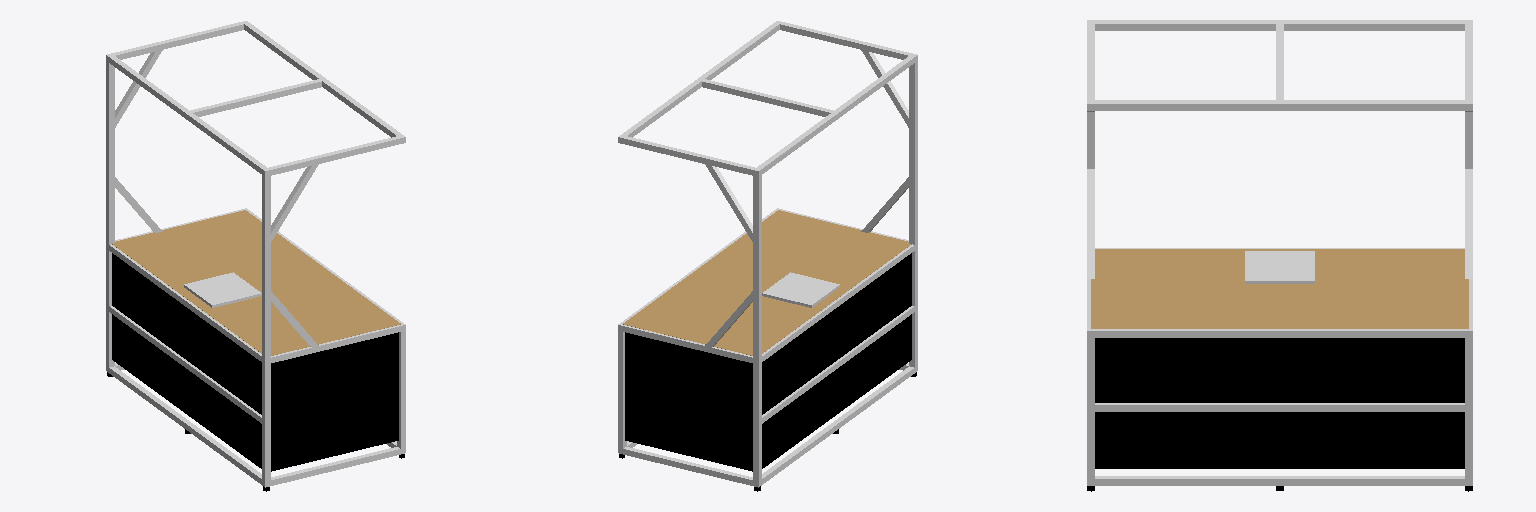
robot.urdf — lab_surrounding:
<?xml version="1.0" ?>
<robot name="lab_surrounding">

  <material name="brown">
    <color rgba="0.8 0.655 0.45 1"/>
  </material>

  <material name="silver">
    <color rgba="0.9 0.9 0.9 1"/>
  </material>

  <material name="black">
    <color rgba="0 0 0 1"/>
  </material>

<!--
  <link name="world"/>
  <joint name="world_joint" type="fixed">
    <origin rpy="0 0 0" xyz="0 0 0"/>
    <parent link="world"/>
    <child link="table_plane"/>
  </joint>
-->

  <link name="table_plane">
    <visual>
      <geometry><box size="0.98 1.96 0.002"/></geometry>
      <material name="brown"/>
    </visual>
    <collision>
      <geometry><box size="0.98 1.96 0.002"/></geometry>
    </collision>
  </link>

  <link name="panda_ground">
    <visual>
        <geometry><box size="0.36 0.36 0.02"/></geometry>
        <material name="silver"/>
    </visual>
    <collision>
        <geometry><box size="0.36 0.36 0.02"/></geometry>
    </collision>
  </link>
  <joint name="panda_ground_joint" type="fixed">
    <origin xyz="-0.24 0 0.01" rpy="0 0 0"/>
    <parent link="table_plane"/>
    <child link="panda_ground"/>
  </joint>

  <link name="front_upper">
    <visual>
        <geometry><box size="0.04 1.92 0.04"/></geometry>
        <material name="silver"/>
    </visual>
    <collision>
        <geometry><box size="0.04 1.92 0.04"/></geometry>
    </collision>
  </link>
  <joint name="front_upper_joint" type="fixed">
    <origin xyz="0.49 0 -0.02" rpy="0 0 0"/>
    <parent link="table_plane"/>
    <child link="front_upper"/>
  </joint>

  <link name="front_mid">
    <visual>
        <geometry><box size="0.04 1.92 0.04"/></geometry>
        <material name="silver"/>
    </visual>
    <collision>
        <geometry><box size="0.04 1.92 0.04"/></geometry>
    </collision>
  </link>
  <joint name="front_mid_joint" type="fixed">
    <origin xyz="0.49 0 -0.445" rpy="0 0 0"/>
    <parent link="table_plane"/>
    <child link="front_mid"/>
  </joint>

  <link name="front_lower">
    <visual>
        <geometry><box size="0.04 1.92 0.04"/></geometry>
        <material name="silver"/>
    </visual>
    <collision>
        <geometry><box size="0.04 1.92 0.04"/></geometry>
    </collision>
  </link>
  <joint name="front_lower_joint" type="fixed">
    <origin xyz="0.49 0 -0.87" rpy="0 0 0"/>
    <parent link="table_plane"/>
    <child link="front_lower"/>
  </joint>

  <link name="back_upper">
    <visual>
        <geometry><box size="0.04 1.92 0.04"/></geometry>
        <material name="silver"/>
    </visual>
    <collision>
        <geometry><box size="0.04 1.92 0.04"/></geometry>
    </collision>
  </link>
  <joint name="back_upper_joint" type="fixed">
    <origin xyz="-0.49 0 -0.02" rpy="0 0 0"/>
    <parent link="table_plane"/>
    <child link="back_upper"/>
  </joint>

  <link name="back_mid">
    <visual>
        <geometry><box size="0.04 1.92 0.04"/></geometry>
        <material name="silver"/>
    </visual>
    <collision>
        <geometry><box size="0.04 1.92 0.04"/></geometry>
    </collision>
  </link>
  <joint name="back_mid_joint" type="fixed">
    <origin xyz="-0.49 0 -0.445" rpy="0 0 0"/>
    <parent link="table_plane"/>
    <child link="back_mid"/>
  </joint>

  <link name="back_lower">
    <visual>
        <geometry><box size="0.04 1.92 0.04"/></geometry>
        <material name="silver"/>
    </visual>
    <collision>
        <geometry><box size="0.04 1.92 0.04"/></geometry>
    </collision>
  </link>
  <joint name="back_lower_joint" type="fixed">
    <origin xyz="-0.49 0 -0.87" rpy="0 0 0"/>
    <parent link="table_plane"/>
    <child link="back_lower"/>
  </joint>

  <link name="vert_front_left">
    <visual>
        <geometry><box size="0.04 0.04 0.89"/></geometry>
        <material name="silver"/>
    </visual>
    <collision>
        <geometry><box size="0.04 0.04 0.89"/></geometry>
    </collision>
  </link>
  <joint name="vert_front_left_joint" type="fixed">
    <origin xyz="0.49 0.98 -0.445" rpy="0 0 0"/>
    <parent link="table_plane"/>
    <child link="vert_front_left"/>
  </joint>

  <link name="vert_front_right">
    <visual>
        <geometry><box size="0.04 0.04 0.89"/></geometry>
        <material name="silver"/>
    </visual>
    <collision>
        <geometry><box size="0.04 0.04 0.89"/></geometry>
    </collision>
  </link>
  <joint name="vert_front_right_joint" type="fixed">
    <origin xyz="0.49 -0.98 -0.445" rpy="0 0 0"/>
    <parent link="table_plane"/>
    <child link="vert_front_right"/>
  </joint>

  <link name="vert_back_left">
    <visual>
        <geometry><box size="0.04 0.04 0.89"/></geometry>
        <material name="silver"/>
    </visual>
    <collision>
        <geometry><box size="0.04 0.04 0.89"/></geometry>
    </collision>
  </link>
  <joint name="vert_back_left_joint" type="fixed">
    <origin xyz="-0.49 0.98 -0.445" rpy="0 0 0"/>
    <parent link="table_plane"/>
    <child link="vert_back_left"/>
  </joint>

  <link name="vert_back_right">
    <visual>
        <geometry><box size="0.04 0.04 0.89"/></geometry>
        <material name="silver"/>
    </visual>
    <collision>
        <geometry><box size="0.04 0.04 0.89"/></geometry>
    </collision>
  </link>
  <joint name="vert_back_right_joint" type="fixed">
    <origin xyz="-0.49 -0.98 -0.445" rpy="0 0 0"/>
    <parent link="table_plane"/>
    <child link="vert_back_right"/>
  </joint>

  <link name="side_upper_right">
    <visual>
        <geometry><box size="0.94 0.04 0.04"/></geometry>
        <material name="silver"/>
    </visual>
    <collision>
        <geometry><box size="0.94 0.04 0.04"/></geometry>
    </collision>
  </link>
  <joint name="side_upper_right_joint" type="fixed">
    <origin xyz="0 -0.98 -0.02" rpy="0 0 0"/>
    <parent link="table_plane"/>
    <child link="side_upper_right"/>
  </joint>

  <link name="side_lower_right">
    <visual>
        <geometry><box size="0.94 0.04 0.04"/></geometry>
        <material name="silver"/>
    </visual>
    <collision>
        <geometry><box size="0.94 0.04 0.04"/></geometry>
    </collision>
  </link>
  <joint name="side_lower_right_joint" type="fixed">
    <origin xyz="0 -0.98 -0.87" rpy="0 0 0"/>
    <parent link="table_plane"/>
    <child link="side_lower_right"/>
  </joint>

  <link name="side_upper_left">
    <visual>
        <geometry><box size="0.94 0.04 0.04"/></geometry>
        <material name="silver"/>
    </visual>
    <collision>
        <geometry><box size="0.94 0.04 0.04"/></geometry>
    </collision>
  </link>
  <joint name="side_upper_left_joint" type="fixed">
    <origin xyz="0 0.98 -0.02" rpy="0 0 0"/>
    <parent link="table_plane"/>
    <child link="side_upper_left"/>
  </joint>

  <link name="side_lower_left">
    <visual>
        <geometry><box size="0.94 0.04 0.04"/></geometry>
        <material name="silver"/>
    </visual>
    <collision>
        <geometry><box size="0.94 0.04 0.04"/></geometry>
    </collision>
  </link>
  <joint name="side_lower_left_joint" type="fixed">
    <origin xyz="0 0.98 -0.87" rpy="0 0 0"/>
    <parent link="table_plane"/>
    <child link="side_lower_left"/>
  </joint>

  <link name="foot_front_left">
    <visual>
        <geometry><cylinder length="0.04" radius="0.02"/></geometry>
        <material name="black"/>
    </visual>
    <collision>
        <geometry><cylinder length="0.04" radius="0.02"/></geometry>
    </collision>
  </link>
  <joint name="foot_front_left_joint" type="fixed">
    <origin xyz="0.49 0.98 -0.9" rpy="0 0 0"/>
    <parent link="table_plane"/>
    <child link="foot_front_left"/>
  </joint>

  <link name="foot_front_mid">
    <visual>
        <geometry><cylinder length="0.04" radius="0.02"/></geometry>
        <material name="black"/>
    </visual>
    <collision>
        <geometry><cylinder length="0.04" radius="0.02"/></geometry>
    </collision>
  </link>
  <joint name="foot_front_mid_joint" type="fixed">
    <origin xyz="0.49 0 -0.9" rpy="0 0 0"/>
    <parent link="table_plane"/>
    <child link="foot_front_mid"/>
  </joint>

  <link name="foot_front_right">
    <visual>
        <geometry><cylinder length="0.04" radius="0.02"/></geometry>
        <material name="black"/>
    </visual>
    <collision>
        <geometry><cylinder length="0.04" radius="0.02"/></geometry>
    </collision>
  </link>
  <joint name="foot_front_right_joint" type="fixed">
    <origin xyz="0.49 -0.98 -0.9" rpy="0 0 0"/>
    <parent link="table_plane"/>
    <child link="foot_front_right"/>
  </joint>

  <link name="foot_back_left">
    <visual>
        <geometry><cylinder length="0.04" radius="0.02"/></geometry>
        <material name="black"/>
    </visual>
    <collision>
        <geometry><cylinder length="0.04" radius="0.02"/></geometry>
    </collision>
  </link>
  <joint name="foot_back_left_joint" type="fixed">
    <origin xyz="-0.49 0.98 -0.9" rpy="0 0 0"/>
    <parent link="table_plane"/>
    <child link="foot_back_left"/>
  </joint>

  <link name="foot_back_mid">
    <visual>
        <geometry><cylinder length="0.04" radius="0.02"/></geometry>
        <material name="black"/>
    </visual>
    <collision>
        <geometry><cylinder length="0.04" radius="0.02"/></geometry>
    </collision>
  </link>
  <joint name="foot_back_mid_joint" type="fixed">
    <origin xyz="-0.49 0 -0.9" rpy="0 0 0"/>
    <parent link="table_plane"/>
    <child link="foot_back_mid"/>
  </joint>

  <link name="foot_back_right">
    <visual>
        <geometry><cylinder length="0.04" radius="0.02"/></geometry>
        <material name="black"/>
    </visual>
    <collision>
        <geometry><cylinder length="0.04" radius="0.02"/></geometry>
    </collision>
  </link>
  <joint name="foot_back_right_joint" type="fixed">
    <origin xyz="-0.49 -0.98 -0.9" rpy="0 0 0"/>
    <parent link="table_plane"/>
    <child link="foot_back_right"/>
  </joint>

  <link name="top_back_left">
    <visual>
        <geometry><box size="0.04 0.04 1.3"/></geometry>
        <material name="silver"/>
    </visual>
    <collision>
        <geometry><box size="0.04 0.04 1.3"/></geometry>
    </collision>
  </link>
  <joint name="top_back_left_joint" type="fixed">
    <origin xyz="-0.49 0.98 0.65" rpy="0 0 0"/>
    <parent link="table_plane"/>
    <child link="top_back_left"/>
  </joint>

  <link name="top_back_right">
    <visual>
        <geometry><box size="0.04 0.04 1.3"/></geometry>
        <material name="silver"/>
    </visual>
    <collision>
        <geometry><box size="0.04 0.04 1.3"/></geometry>
    </collision>
  </link>
  <joint name="top_back_right_joint" type="fixed">
    <origin xyz="-0.49 -0.98 0.65" rpy="0 0 0"/>
    <parent link="table_plane"/>
    <child link="top_back_right"/>
  </joint>

  <link name="top_front">
    <visual>
        <geometry><box size="0.04 1.92 0.04"/></geometry>
        <material name="silver"/>
    </visual>
    <collision>
        <geometry><box size="0.04 1.92 0.04"/></geometry>
    </collision>
  </link>
  <joint name="top_front_joint" type="fixed">
    <origin xyz="0.49 0 1.28" rpy="0 0 0"/>
    <parent link="table_plane"/>
    <child link="top_front"/>
  </joint>

  <link name="top_back">
    <visual>
        <geometry><box size="0.04 1.92 0.04"/></geometry>
        <material name="silver"/>
    </visual>
    <collision>
        <geometry><box size="0.04 1.92 0.04"/></geometry>
    </collision>
  </link>
  <joint name="top_back_joint" type="fixed">
    <origin xyz="-0.49 0 1.28" rpy="0 0 0"/>
    <parent link="table_plane"/>
    <child link="top_back"/>
  </joint>

  <link name="top_side_right">
    <visual>
        <geometry><box size="1.02 0.04 0.04"/></geometry>
        <material name="silver"/>
    </visual>
    <collision>
        <geometry><box size="1.02 0.04 0.04"/></geometry>
    </collision>
  </link>
  <joint name="top_side_right_joint" type="fixed">
    <origin xyz="0 -0.98 1.28" rpy="0 0 0"/>
    <parent link="table_plane"/>
    <child link="top_side_right"/>
  </joint>

  <link name="top_side_mid">
    <visual>
        <geometry><box size="1.02 0.04 0.04"/></geometry>
        <material name="silver"/>
    </visual>
    <collision>
        <geometry><box size="1.02 0.04 0.04"/></geometry>
    </collision>
  </link>
  <joint name="top_side_mid_joint" type="fixed">
    <origin xyz="0 0 1.28" rpy="0 0 0"/>
    <parent link="table_plane"/>
    <child link="top_side_mid"/>
  </joint>

  <link name="top_side_left">
    <visual>
        <geometry><box size="1.02 0.04 0.04"/></geometry>
        <material name="silver"/>
    </visual>
    <collision>
        <geometry><box size="1.02 0.04 0.04"/></geometry>
    </collision>
  </link>
  <joint name="top_side_left_joint" type="fixed">
    <origin xyz="0 0.98 1.28" rpy="0 0 0"/>
    <parent link="table_plane"/>
    <child link="top_side_left"/>
  </joint>

  <link name="rot_lower_right">
    <visual>
        <geometry><box size="0.6 0.04 0.04"/></geometry>
        <material name="silver"/>
    </visual>
    <collision>
        <geometry><box size="0.6 0.04 0.04"/></geometry>
    </collision>
  </link>
  <joint name="rot_lower_right_joint" type="fixed">
    <origin xyz="-0.31 0.98 0.22" rpy="0 0.9273 0"/>
    <parent link="table_plane"/>
    <child link="rot_lower_right"/>
  </joint>

  <link name="rot_lower_left">
    <visual>
        <geometry><box size="0.6 0.04 0.04"/></geometry>
        <material name="silver"/>
    </visual>
    <collision>
        <geometry><box size="0.6 0.04 0.04"/></geometry>
    </collision>
  </link>
  <joint name="rot_lower_left_joint" type="fixed">
    <origin xyz="-0.31 -0.98 0.22" rpy="0 0.9273 0"/>
    <parent link="table_plane"/>
    <child link="rot_lower_left"/>
  </joint>

  <link name="rot_upper_right">
    <visual>
        <geometry><box size="0.6 0.04 0.04"/></geometry>
        <material name="silver"/>
    </visual>
    <collision>
        <geometry><box size="0.6 0.04 0.04"/></geometry>
    </collision>
  </link>
  <joint name="rot_upper_right_joint" type="fixed">
    <origin xyz="-0.31 0.98 1.04" rpy="3.1416 0.9273 3.1416"/>
    <parent link="table_plane"/>
    <child link="rot_upper_right"/>
  </joint>

  <link name="rot_upper_left">
    <visual>
        <geometry><box size="0.6 0.04 0.04"/></geometry>
        <material name="silver"/>
    </visual>
    <collision>
        <geometry><box size="0.6 0.04 0.04"/></geometry>
    </collision>
  </link>
  <joint name="rot_upper_left_joint" type="fixed">
    <origin xyz="-0.31 -0.98 1.04" rpy="3.1416 0.9273 3.1416"/>
    <parent link="table_plane"/>
    <child link="rot_upper_left"/>
  </joint>

  <link name="support_body">
    <visual>
        <geometry><box size="0.98 1.96 0.8"/></geometry>
        <material name="support_body_material"><color rgba="0 0 0 0"/></material>
    </visual>
    <collision>
        <geometry><box size="0.98 1.96 0.8"/></geometry>
    </collision>
  </link>
  <joint name="support_body_joint" type="fixed">
    <origin xyz="0 0 -0.4" rpy="0 0 0"/>
    <parent link="table_plane"/>
    <child link="support_body"/>
  </joint>

</robot>

--- Render facts (derived) ---
3 views of the same robot in one strip: view 1: azimuth 30°, elevation 25°; view 2: azimuth 150°, elevation 25°; view 3: azimuth 270°, elevation 25° (orthographic).
Robot: lab_surrounding — 34 links, 33 joints (33 fixed); root link table_plane; default pose: all joints at 0.
Visible links, largest first — view 1: support_body, table_plane, top_back, back_lower, top_front, top_back_right, top_back_left, panda_ground, back_mid, back_upper, top_side_right, vert_back_right (+8 smaller); view 2: support_body, table_plane, top_back, back_lower, top_back_left, top_front, top_back_right, panda_ground, back_mid, back_upper, top_side_left, vert_back_left (+8 smaller); view 3: support_body, table_plane, top_front, top_back, front_lower, front_upper, front_mid, panda_ground, vert_front_left, vert_front_right, rot_lower_right, rot_lower_left (+3 smaller).
Boxes of the visible links, box(x1,y1,x2,y2) form: support_body: box(112, 253, 398, 471); table_plane: box(112, 210, 400, 355); top_back: box(109, 56, 266, 173); back_lower: box(109, 366, 261, 484); top_front: box(244, 23, 401, 137); top_back_right: box(262, 168, 270, 358); top_back_left: box(106, 53, 114, 244); panda_ground: box(184, 272, 261, 307); back_mid: box(109, 306, 261, 423); back_upper: box(109, 244, 261, 361); top_side_right: box(262, 135, 405, 176); vert_back_right: box(262, 357, 270, 487); support_body: box(625, 253, 911, 471); table_plane: box(623, 210, 911, 355); top_back: box(757, 56, 914, 173); back_lower: box(762, 366, 914, 484); top_back_left: box(753, 168, 761, 358); top_front: box(622, 23, 779, 137); top_back_right: box(909, 53, 917, 244); panda_ground: box(762, 272, 839, 307); back_mid: box(762, 306, 914, 423); back_upper: box(762, 244, 914, 361); top_side_left: box(618, 135, 761, 176); vert_back_left: box(753, 357, 761, 487); support_body: box(1095, 338, 1464, 468); table_plane: box(1091, 249, 1468, 328); top_front: box(1095, 100, 1464, 110); top_back: box(1095, 20, 1464, 30); front_lower: box(1095, 476, 1464, 485); front_upper: box(1095, 329, 1464, 337); front_mid: box(1095, 403, 1464, 411); panda_ground: box(1245, 251, 1314, 283); vert_front_left: box(1465, 327, 1472, 485); vert_front_right: box(1087, 327, 1094, 485); rot_lower_right: box(1465, 169, 1472, 278); rot_lower_left: box(1087, 169, 1094, 278).
Size in the robot's own frame: 1.02 by 2 by 2.22 metres.
Geometry: primitives only (box / cylinder / sphere), no mesh files.